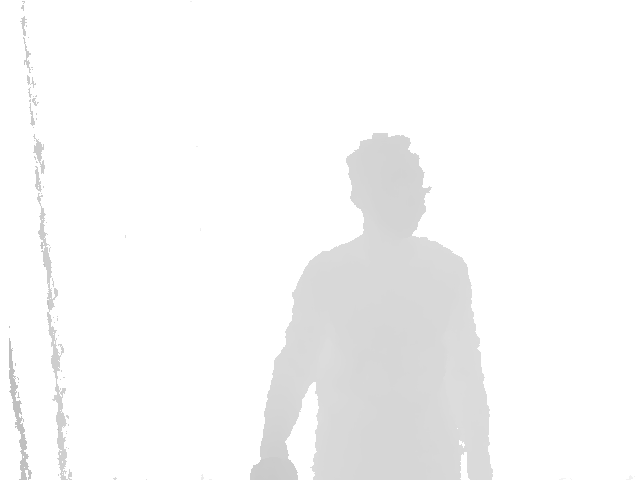head: (344, 132, 431, 237)
person: (248, 131, 495, 480)
